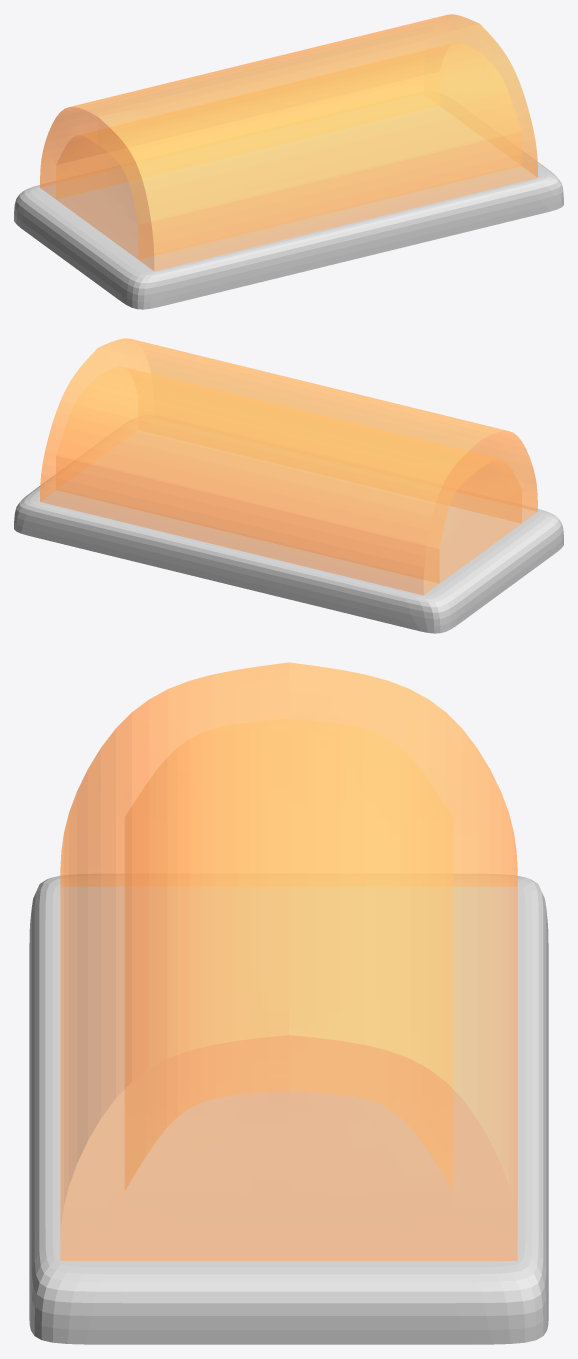
The model's file is OrangeLight.glb.
The picture shows the model from 3 angles, top to bottom: view 1: azimuth 30°, elevation 25°; view 2: azimuth 150°, elevation 25°; view 3: azimuth 270°, elevation 25°; orthographic projection. The views are drawn at different scales.
Visible parts, largest first — view 1: Cube; view 2: Cube; view 3: Cube.
Part boxes in pixels (x1=…): Cube: x1=14, y1=14, x2=563, y2=309; Cube: x1=14, y1=338, x2=563, y2=633; Cube: x1=29, y1=662, x2=548, y2=1344.
Bounding box in the file's own units: 1.15 × 0.3579 × 0.5942.
